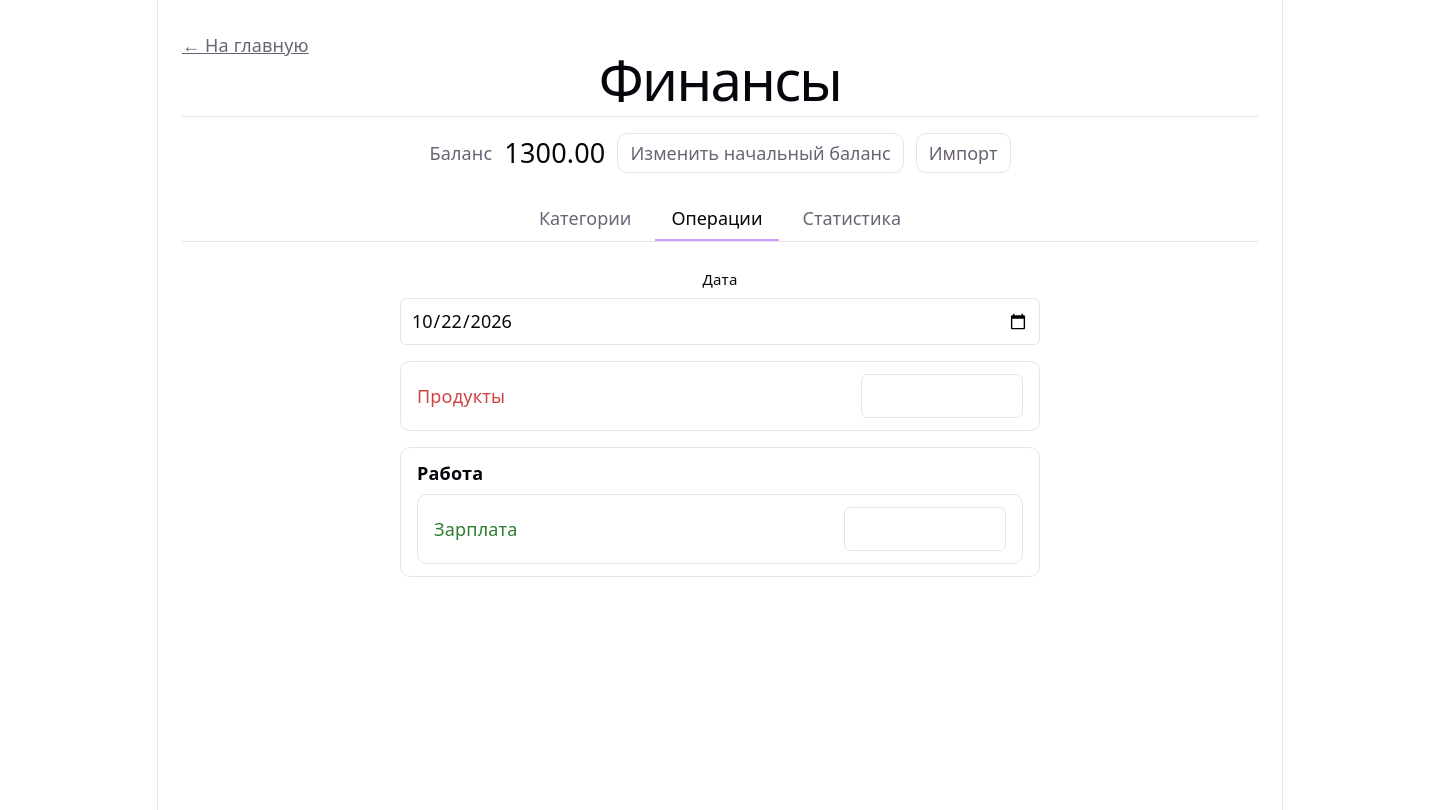
Test case: FinancesPage › показывает блок прихода перед блоком ухода с цветовыми классами
This screenshot has width=1440, height=810.
Expected: the text "1300.00" is shown, [504,140,606,166]
Click the tab "Категории" at point(585, 219), box [523,197,647,241]
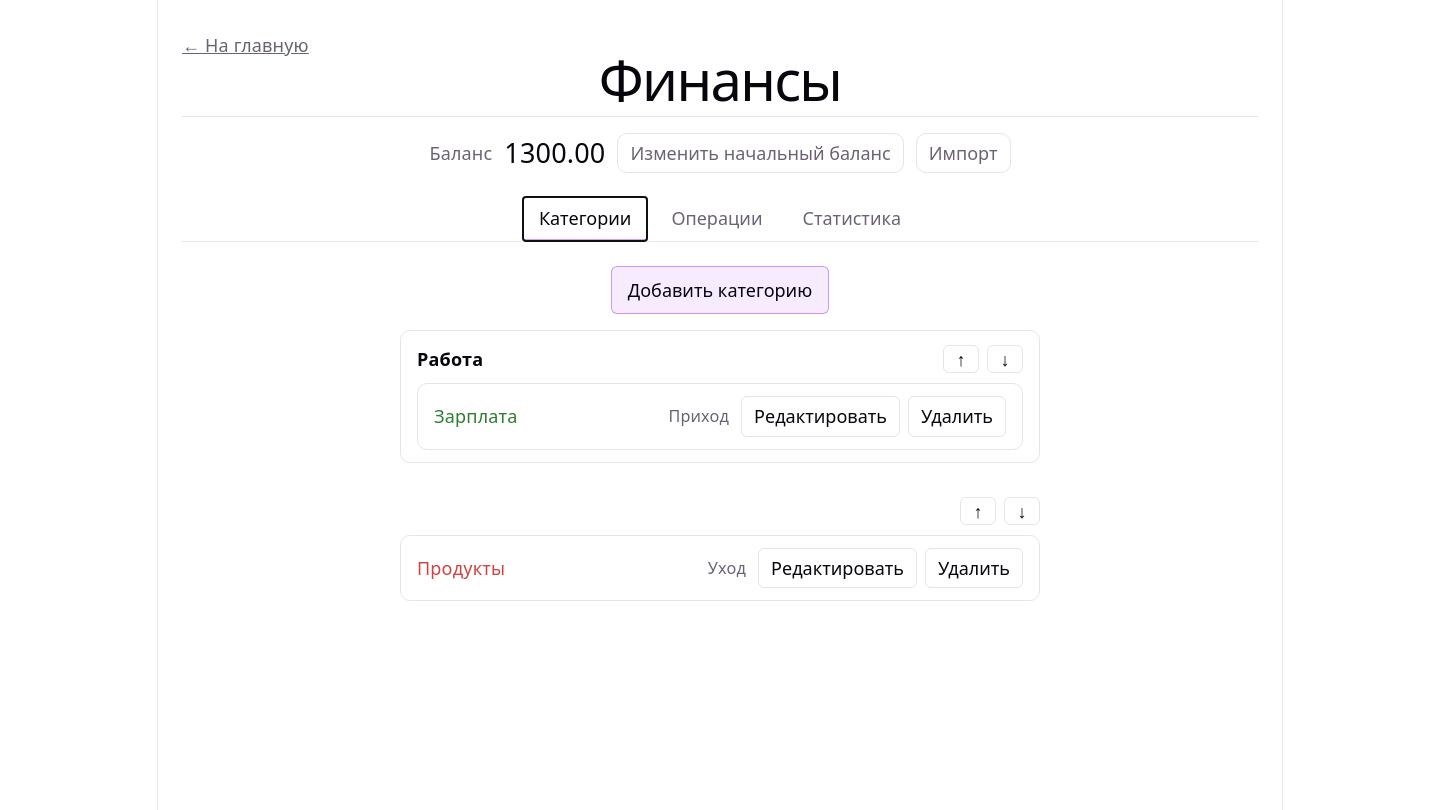
Expected: the number of elements with class "category-group" is 2, [400,330,1040,463]; [400,495,1040,601]
Now the element with class "category-group" shows "Зарплата", box [434,404,518,428]
Now the element with class "category-group" shows "Продукты", box [417,556,505,580]
